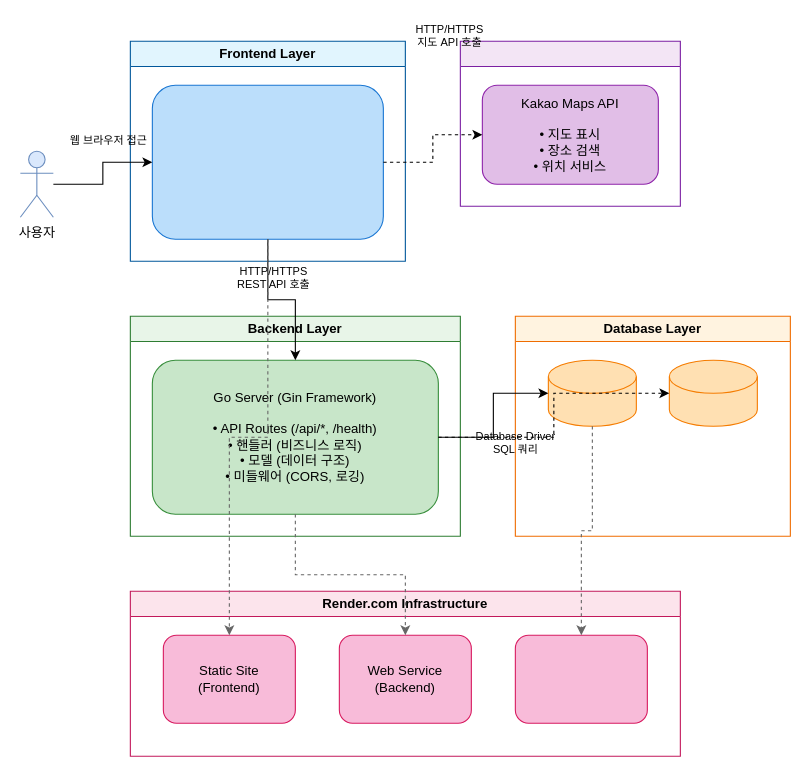
The diagram is 810 pixels wide and 776 high, and some of its shapes have lost their labels. The shapes that lost their labels are listed below. From the top down, each one's box as (x1, y1, x2, y2) in pixels, then its label:
(459, 40, 680, 206): External APIs
(151, 84, 383, 239): React App (TypeScript) • 컴포넌트 (UI) • 훅 (비즈니스 로직) • API 레이어 • 상태 관리 (React Query)
(547, 359, 636, 426): PostgreSQL (Production)
(668, 359, 757, 426): SQLite (Development)
(514, 634, 647, 723): Database Service (PostgreSQL)
